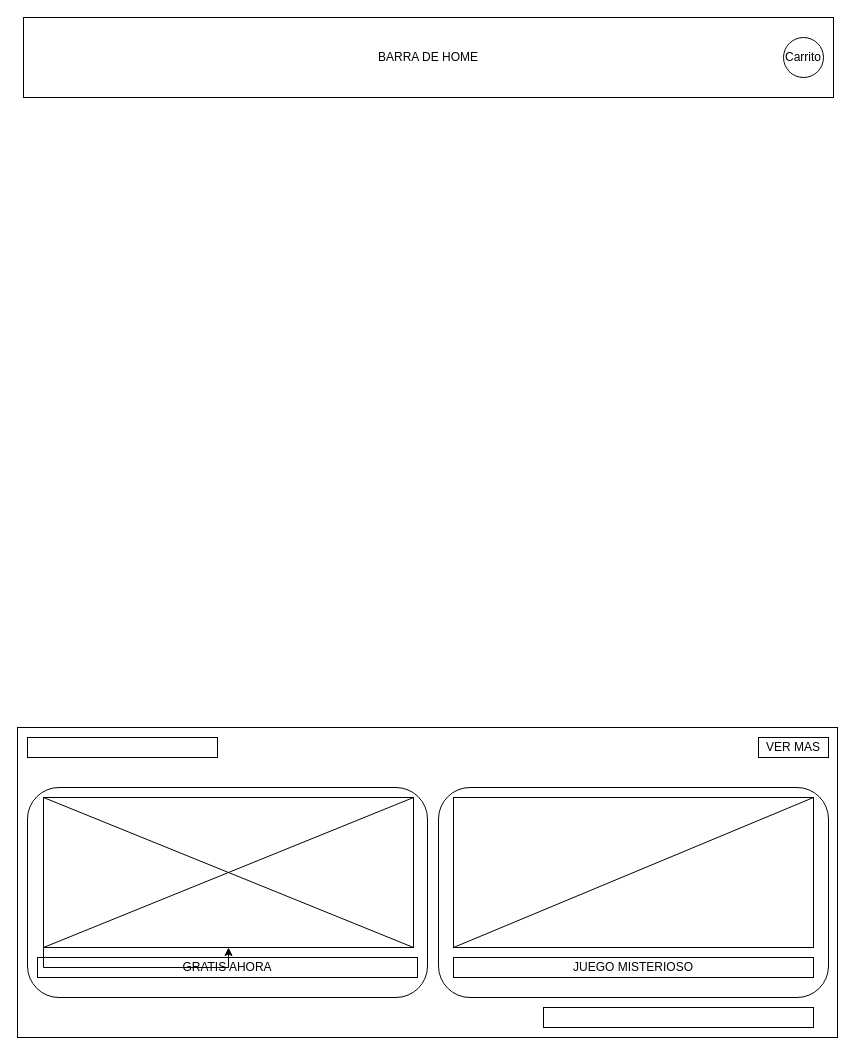
Some shapes in this 855 by 1055 pixel diagram are drawn without their labels. The box of each missing label's shape, as (x1, y1, x2, y2) in pixels:
BARRA DE PUBLICIDAD: (26, 736, 218, 758)
SE DESBLOQUEARA EN 20:00:00: (542, 1006, 814, 1028)
